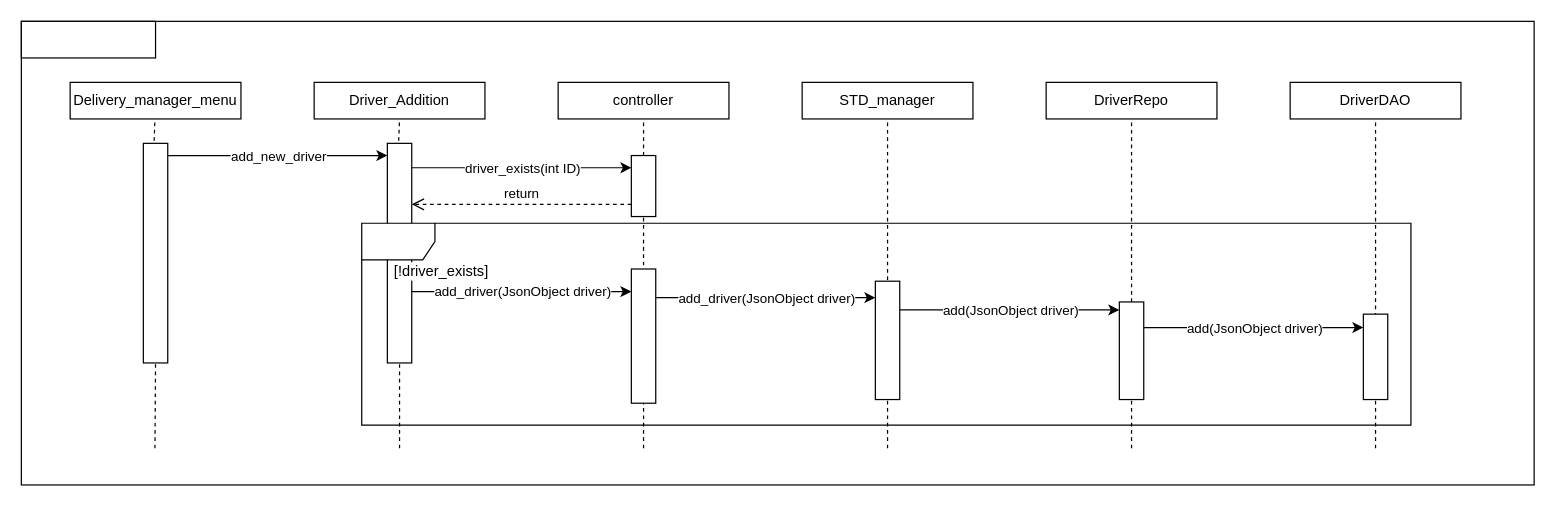
The diagram is 1556 pixels wide and 506 high, and some of its shapes have lost their labels. The box of each missing label's shape, as (x1, y1, x2, y2) in pixels:
Add New Driver: (20, 20, 156, 58)
opt: (361, 222, 1411, 425)
